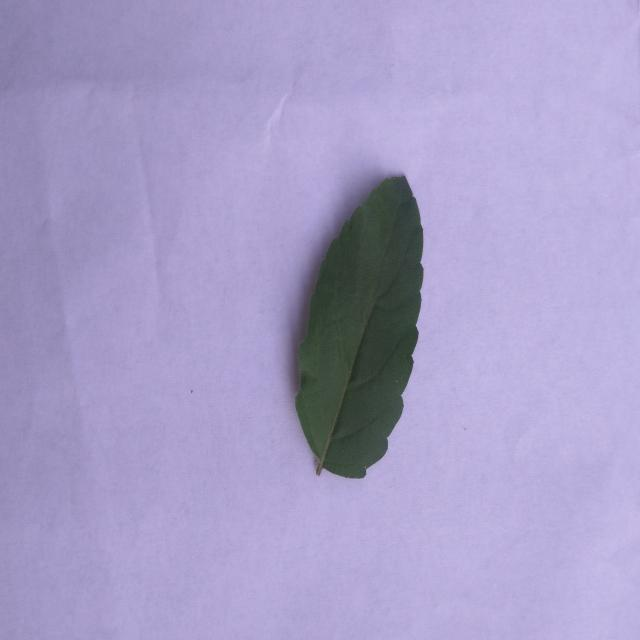defectedtulsi: (295, 176, 424, 478), (79, 329, 88, 398)
tulsi: (295, 176, 424, 478)
